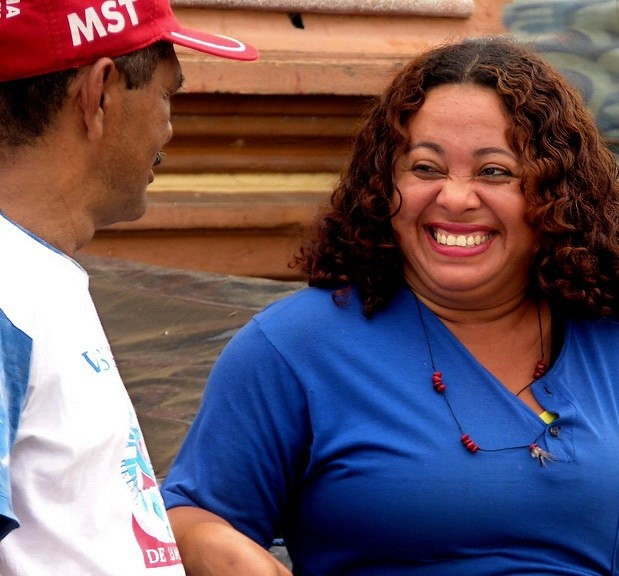face_no_mask: (361, 41, 561, 302), (19, 2, 191, 243)
